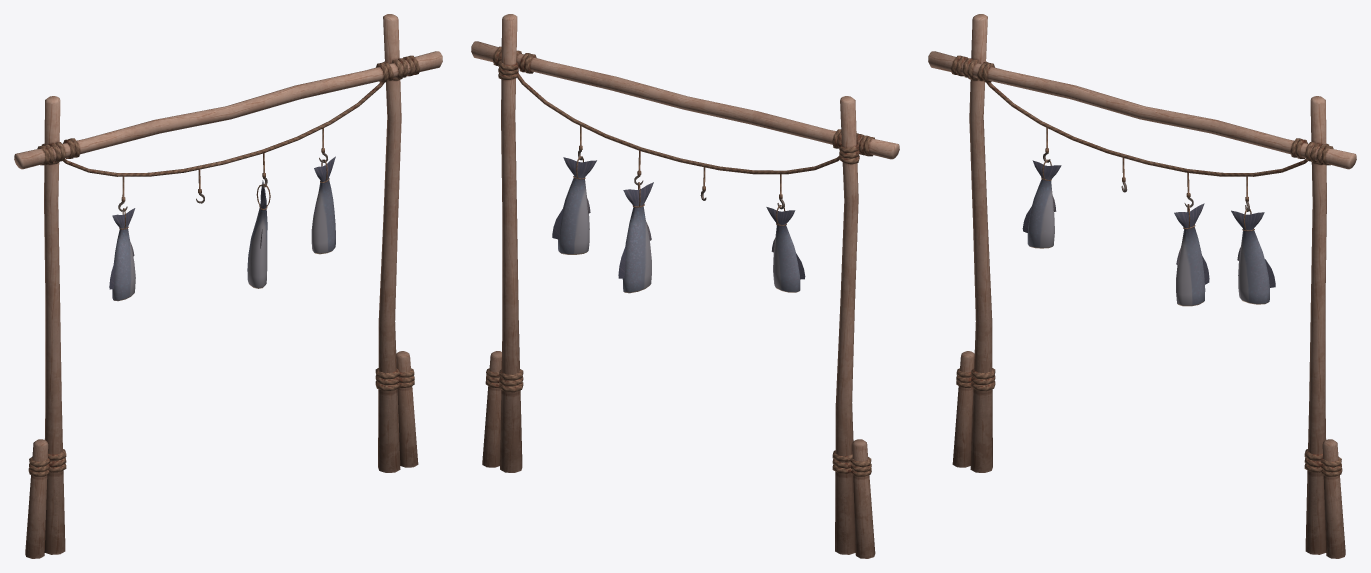
The picture shows the model from 3 angles, left to right: view 1: azimuth 30°, elevation 25°; view 2: azimuth 150°, elevation 25°; view 3: azimuth 330°, elevation 25°; orthographic projection.
Parts seen in each view (by area): view 1: submesh_0; view 2: submesh_0; view 3: submesh_0.
Boxes of the visible parts, box(x1,y1,x2,y2) form: submesh_0: box(14, 14, 442, 558); submesh_0: box(471, 14, 899, 558); submesh_0: box(928, 14, 1356, 558).
Size of the model in its own units: 2.46 by 2.51 by 0.2469.
1 material, 1 textured.
